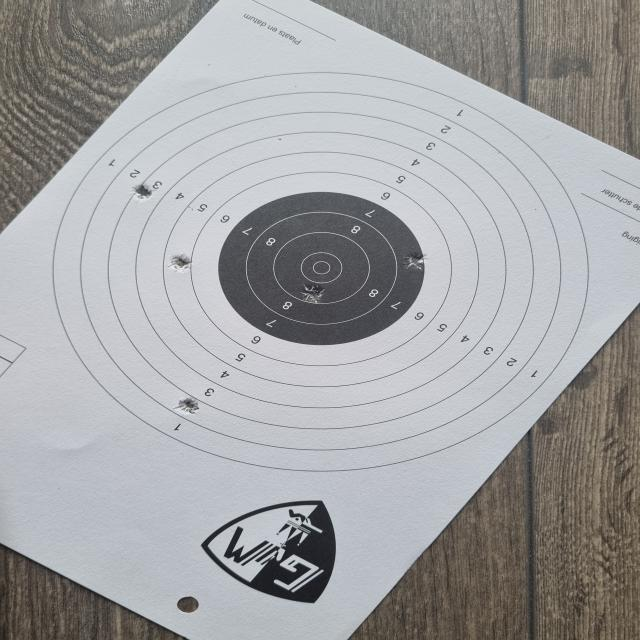3: (173, 397, 199, 414), (130, 185, 158, 199)
6: (167, 254, 193, 274)
7: (403, 253, 428, 270)
9: (301, 284, 325, 304)
Target: (55, 70, 589, 472)
black_contour: (218, 191, 425, 346)
